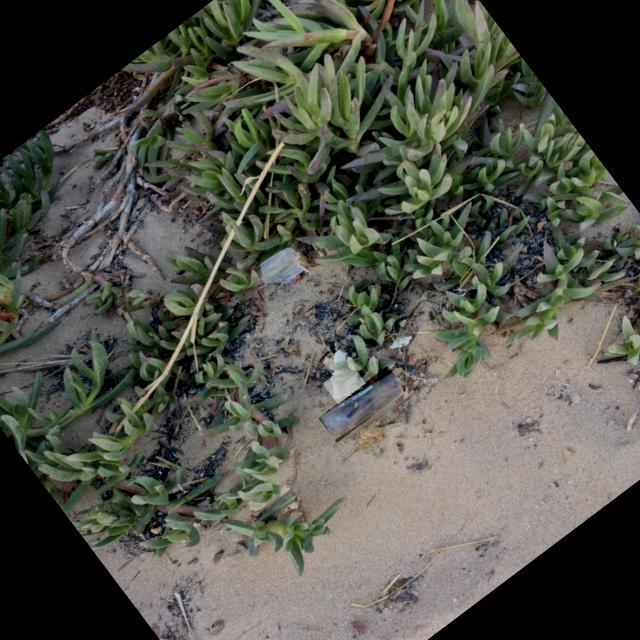Plastic film: (322, 372, 405, 439), (259, 247, 309, 289)
Styrofoam piece: (333, 372, 361, 399), (334, 349, 350, 375), (390, 336, 412, 349)
